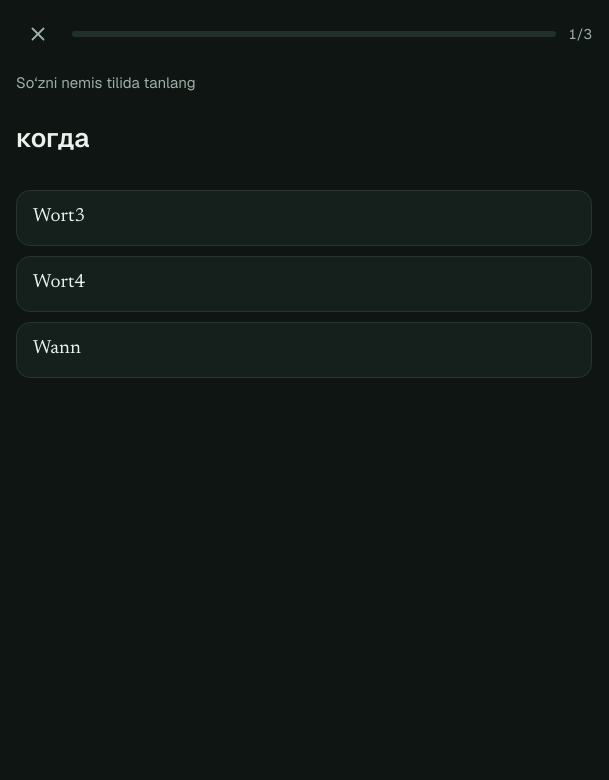
Test: stored translations only › UI in Uzbek: ru_de shows the card's own "когда" and the sheet shows it too — no request is made
Check: the text "когда" is shown, box x1=16 y1=120 x2=89 y2=154
Click the button "Wann". click: (57, 349)
box: x1=16 y1=322 x2=592 y2=378
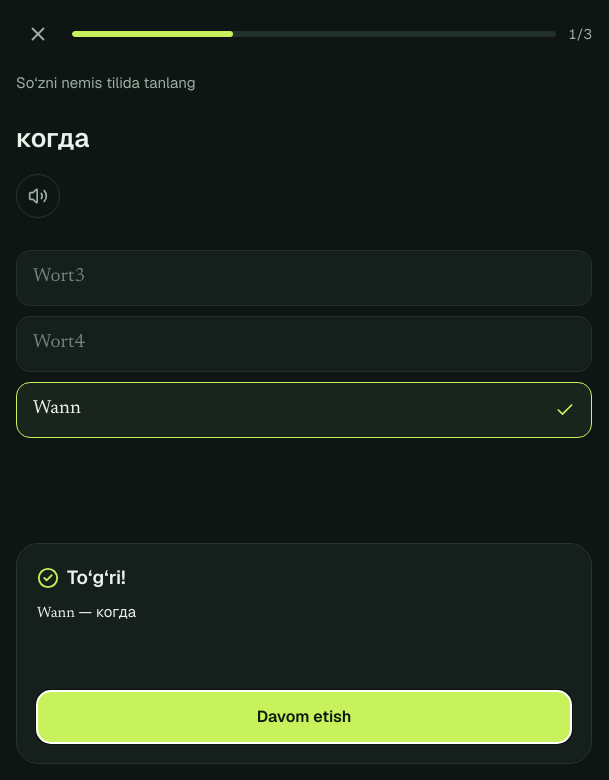
Check: the message shows "Wann — когда", box x1=16 y1=543 x2=592 y2=764
